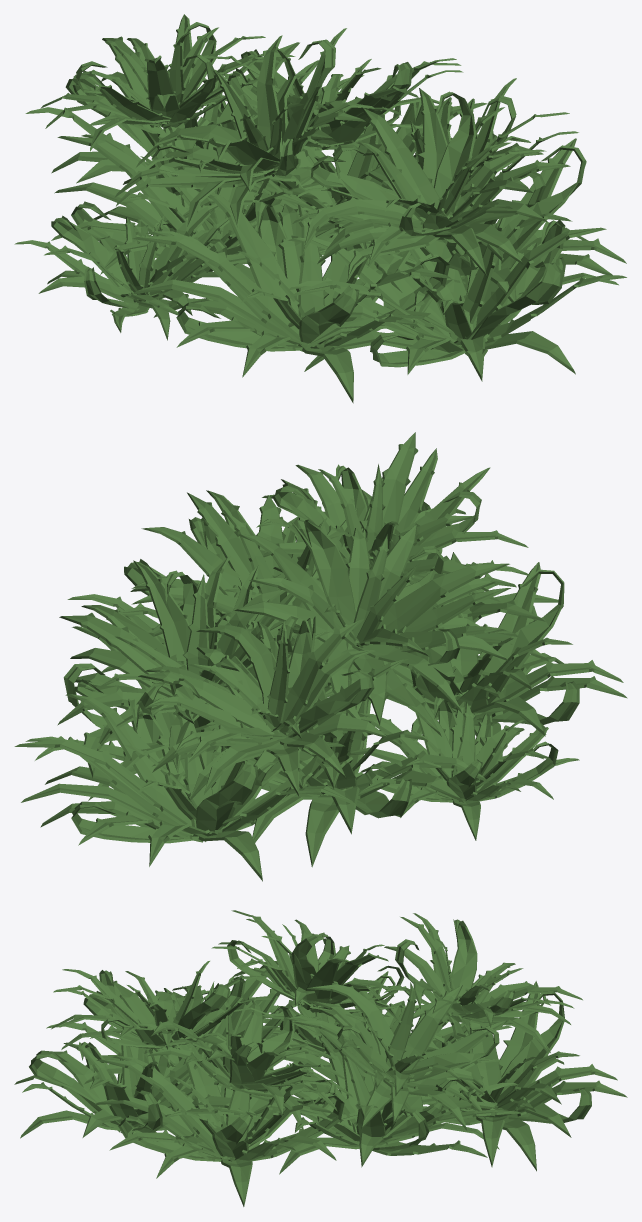
Rendered from Aloe_01.fbx.
The picture shows the model from 3 angles, top to bottom: view 1: azimuth 30°, elevation 25°; view 2: azimuth 150°, elevation 25°; view 3: azimuth 270°, elevation 25°; orthographic projection. The views are drawn at different scales.
Visible parts, largest first — view 1: SM_Foliage_Aloe_01.mo; view 2: SM_Foliage_Aloe_01.mo; view 3: SM_Foliage_Aloe_01.mo.
Part boxes in pixels (x1,y1,x2,y2): SM_Foliage_Aloe_01.mo: [14, 14, 626, 403]; SM_Foliage_Aloe_01.mo: [14, 432, 627, 881]; SM_Foliage_Aloe_01.mo: [14, 910, 627, 1206].
Size of the model in its own units: 194 by 85.23 by 250.
